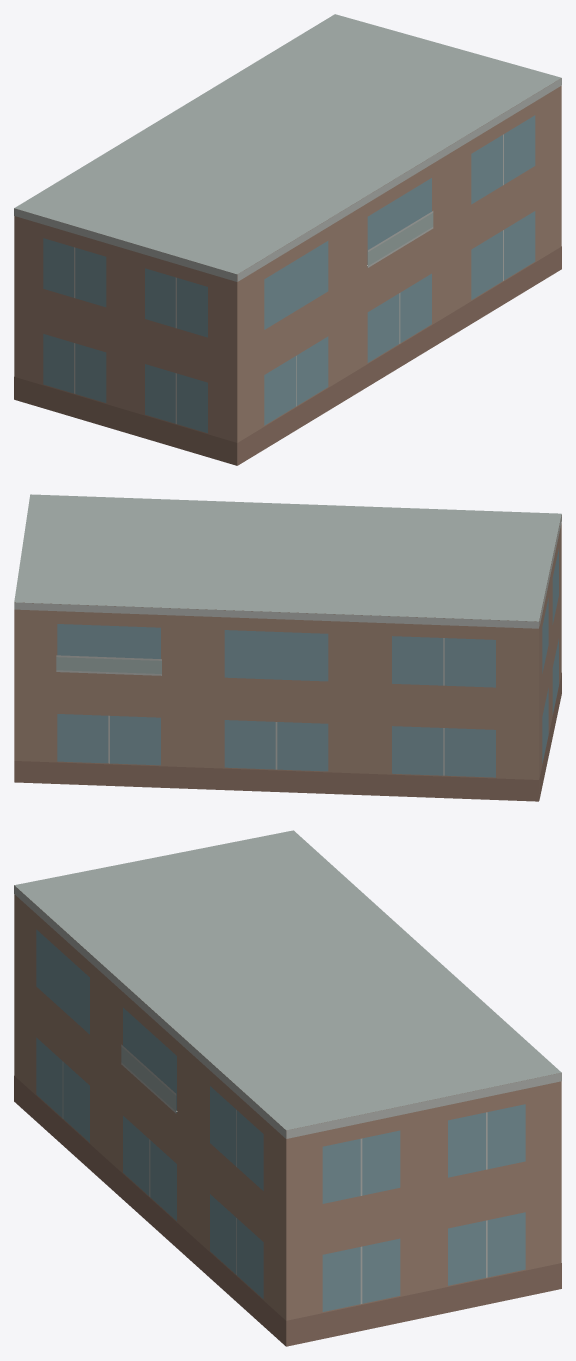
File: survey-upis-32981542.glb
3 views of the same model, one above another, from view 1: azimuth 30°, elevation 25°; view 2: azimuth 150°, elevation 25°; view 3: azimuth 270°, elevation 25° (orthographic). The views are drawn at different scales.
Visible parts, largest first — view 1: survey-upis-32981542.tmp; view 2: survey-upis-32981542.tmp; view 3: survey-upis-32981542.tmp.
Part boxes in pixels (x1,y1,x2,y2): survey-upis-32981542.tmp: [14, 14, 561, 465]; survey-upis-32981542.tmp: [14, 494, 561, 801]; survey-upis-32981542.tmp: [14, 830, 561, 1346].
Size of the model in its own units: 18.17 by 6.1 by 14.01.
